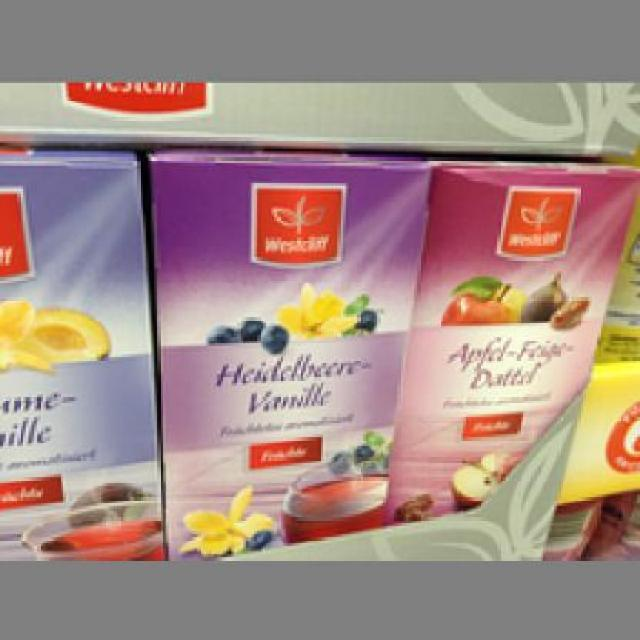Tea: (146, 148, 426, 558), (392, 160, 638, 520), (0, 146, 163, 552)
